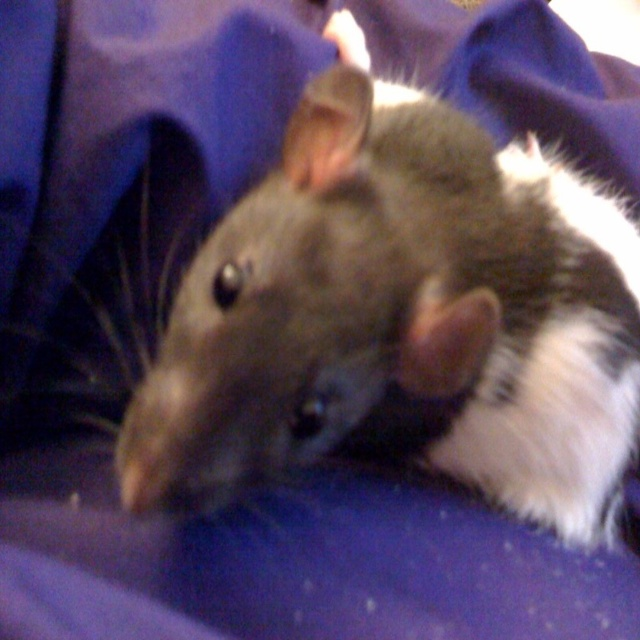Mouse: (113, 75, 558, 514)
